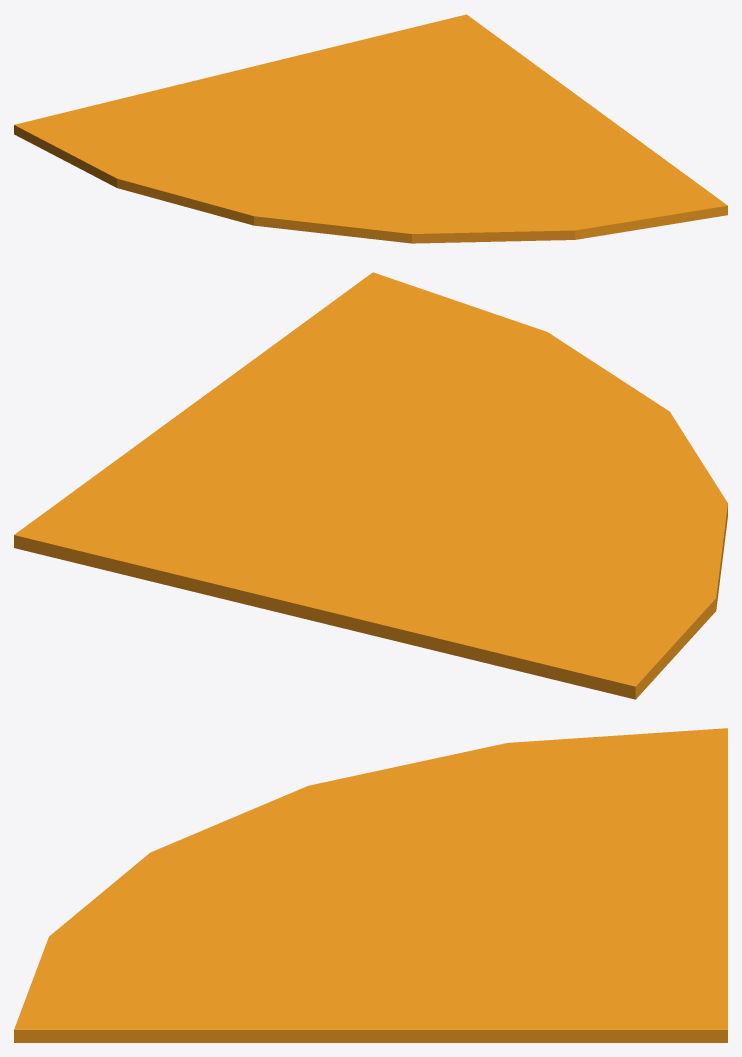
The model's file is SM_Buildings_FloorCurved_5x5_01.fbx.
The picture shows the model from 3 angles, top to bottom: view 1: azimuth 30°, elevation 25°; view 2: azimuth 150°, elevation 25°; view 3: azimuth 270°, elevation 25°; orthographic projection. The views are drawn at different scales.
Parts seen in each view (by area): view 1: SM_Buildings_FloorCurved_5x5_01; view 2: SM_Buildings_FloorCurved_5x5_01; view 3: SM_Buildings_FloorCurved_5x5_01.
Part boxes in pixels (x1,y1,x2,y2): SM_Buildings_FloorCurved_5x5_01: (14, 14, 727, 243); SM_Buildings_FloorCurved_5x5_01: (14, 272, 727, 699); SM_Buildings_FloorCurved_5x5_01: (14, 728, 727, 1042).
Bounding box in the file's own units: 500 × 10 × 500.
